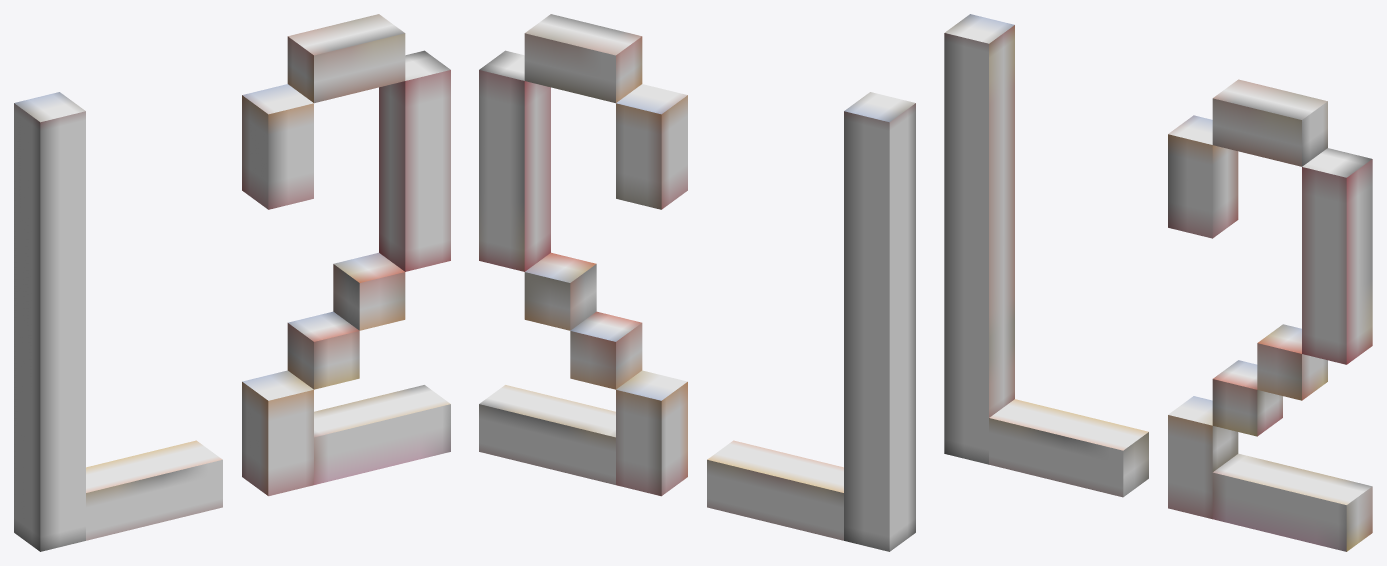
Rendered from Matrix_17.dae.
3 views of the same model, side by side, from view 1: azimuth 30°, elevation 25°; view 2: azimuth 150°, elevation 25°; view 3: azimuth 330°, elevation 25° (orthographic). The views are drawn at different scales.
Parts seen in each view (by area): view 1: Matrix_17; view 2: Matrix_17; view 3: Matrix_17.
Part boxes in pixels (x1=…): Matrix_17: x1=14, y1=14, x2=450, y2=551; Matrix_17: x1=479, y1=14, x2=915, y2=551; Matrix_17: x1=944, y1=14, x2=1372, y2=551.
Size of the model in its own units: 9 by 9 by 1.
